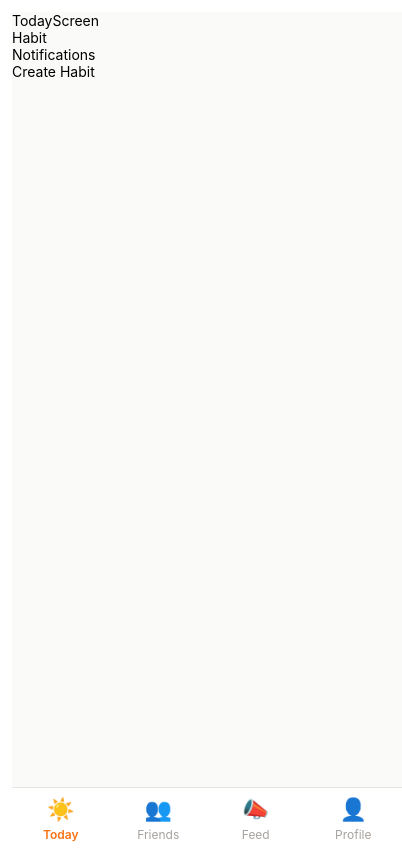
Test: RootNavigator › navigates to habit detail overlay from Today
Click the element with test id "habit-press".
click(29, 38)  # box [12, 29, 47, 46]
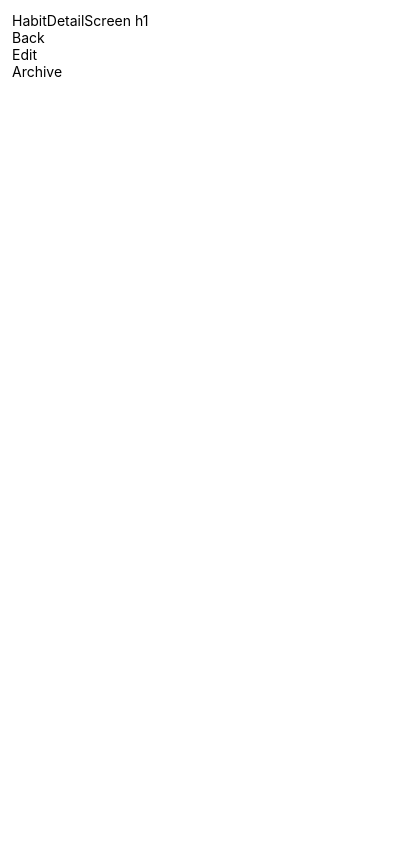
expect the element with test id "habit-detail-screen" is shown: met, box [12, 12, 148, 80]
expect the element with test id "tab-bar" is gone: met
